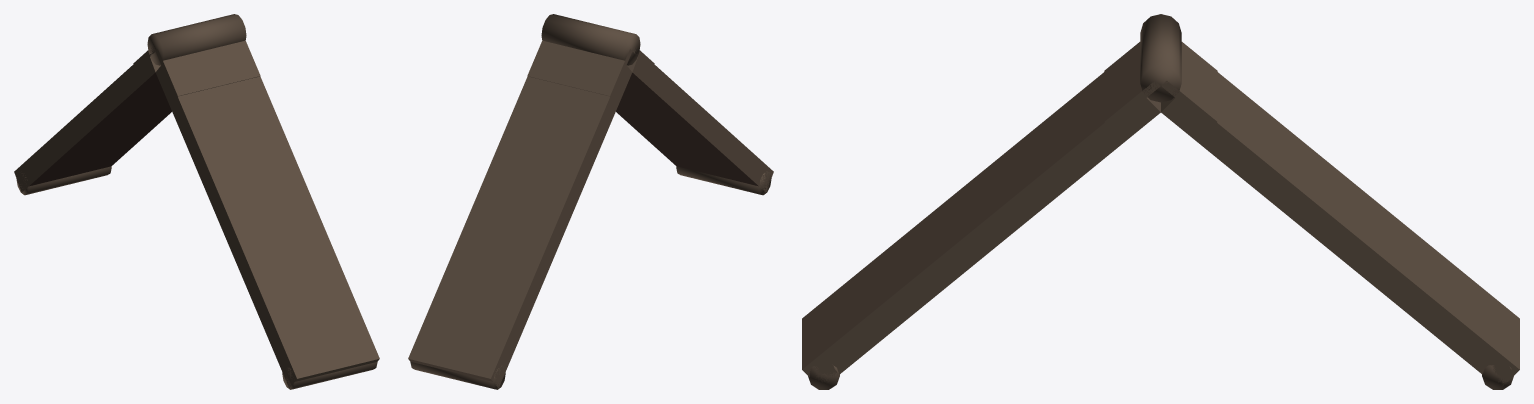
The model's file is kit_timber_thatch_w5.glb.
3 views of the same model, side by side, from view 1: azimuth 30°, elevation 25°; view 2: azimuth 150°, elevation 25°; view 3: azimuth 270°, elevation 25° (orthographic). The views are drawn at different scales.
Parts seen in each view (by area): view 1: kit_timber_thatch_w5; view 2: kit_timber_thatch_w5; view 3: kit_timber_thatch_w5.
Boxes of the visible parts, <box> form: kit_timber_thatch_w5: <box>14,14,379,389</box>; kit_timber_thatch_w5: <box>408,14,773,389</box>; kit_timber_thatch_w5: <box>802,14,1519,389</box>.
Bounding box in the file's own units: 1 × 2.96 × 5.92.
